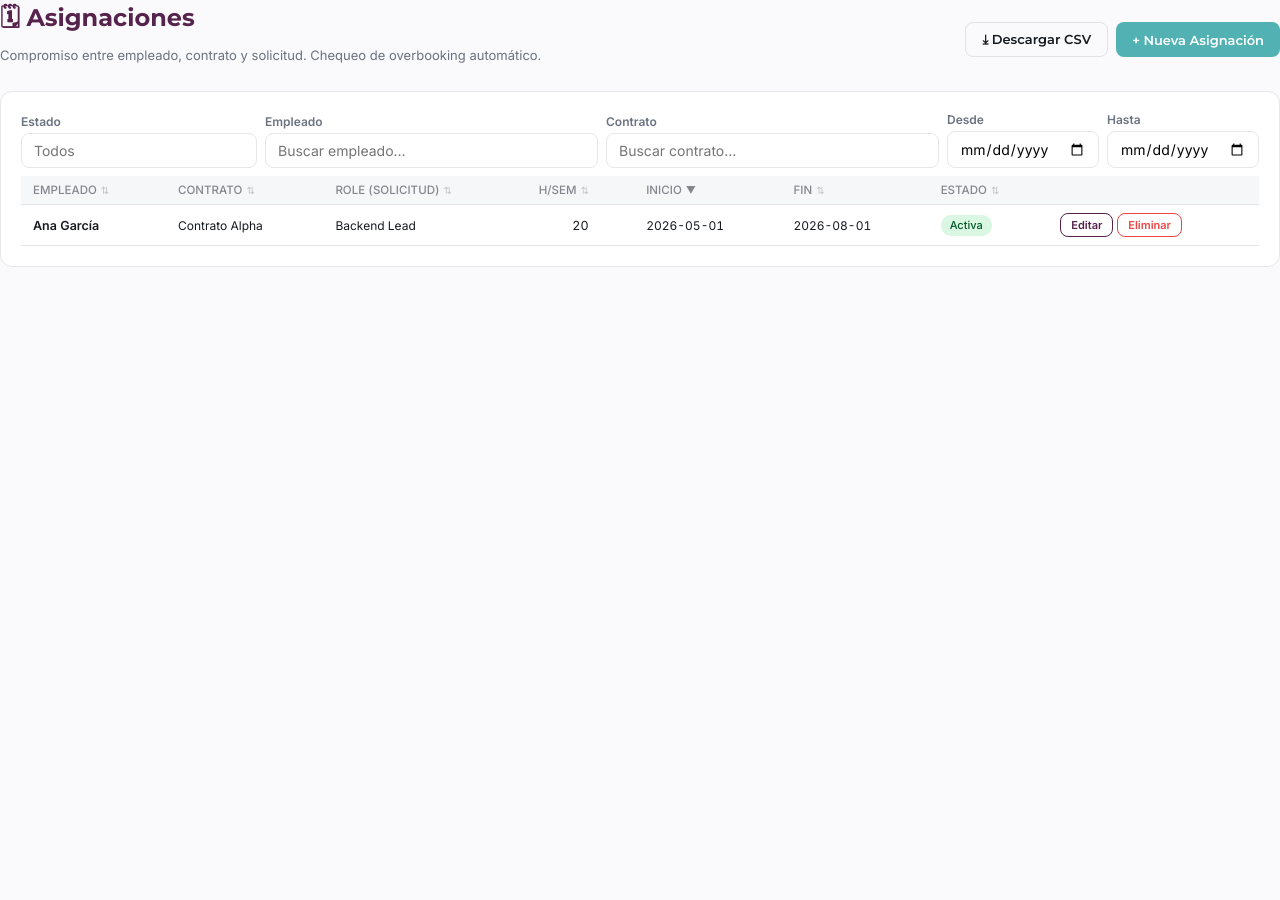
Scenario: Assignments module › employee combobox excludes terminated employees
Check: the text "Ana García" is shown, box [21, 204, 166, 246]
Click the button "+ Nueva Asignación".
click(1198, 40)  # box [1116, 22, 1279, 57]
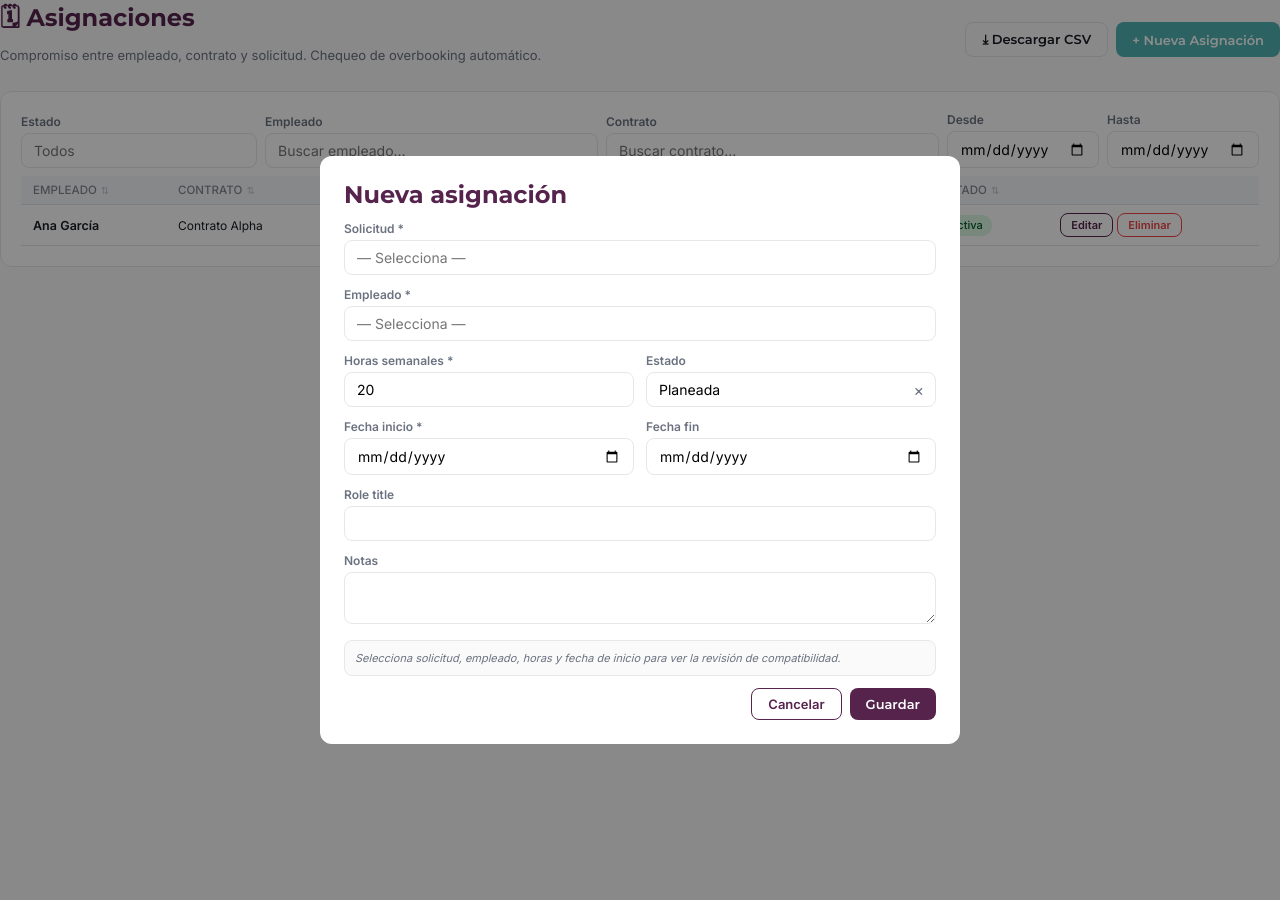
Focus the dropdown labelled "Empleado" at (640, 324), box [344, 306, 936, 341]
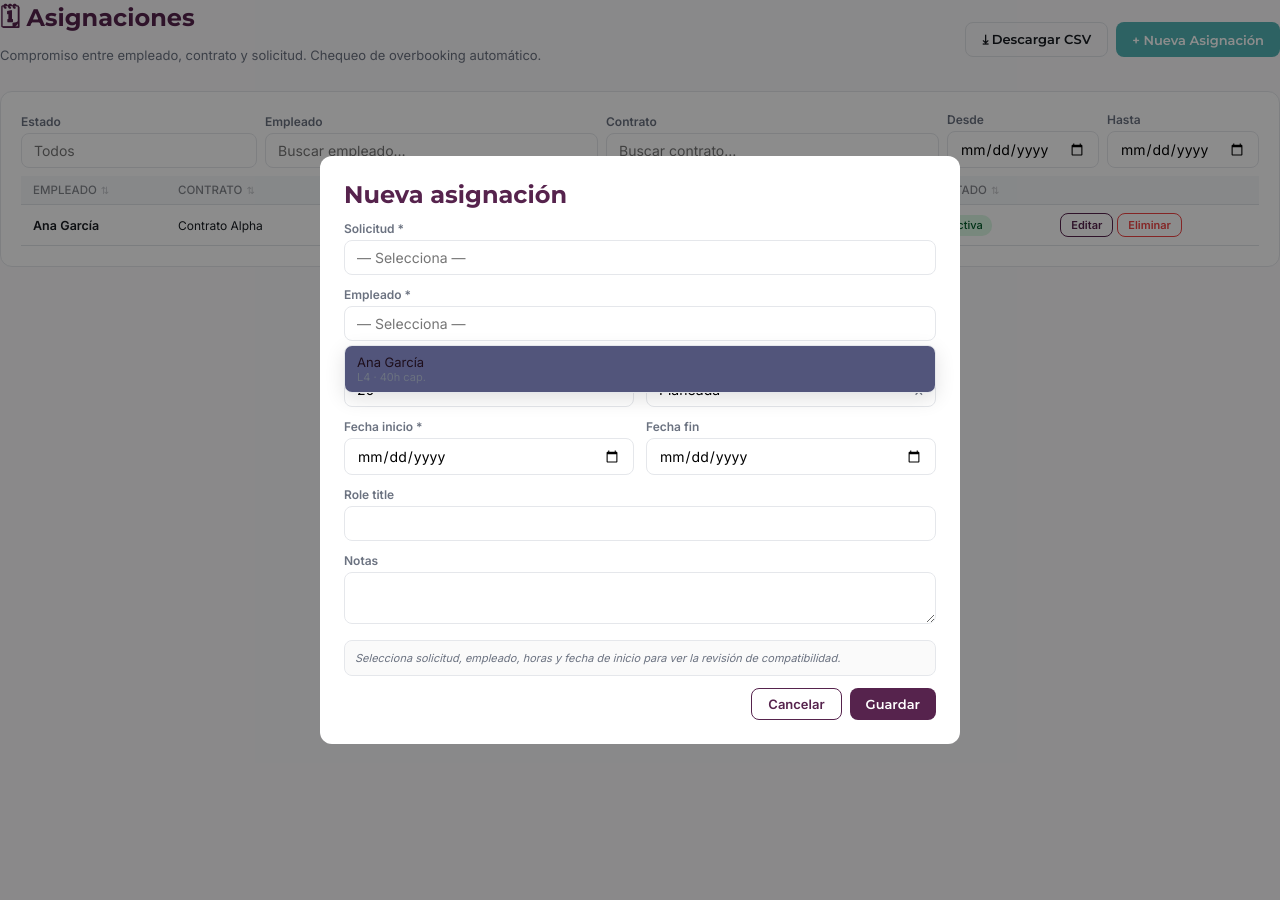
Check: the text "Ana García" is shown, box [357, 354, 424, 370]
